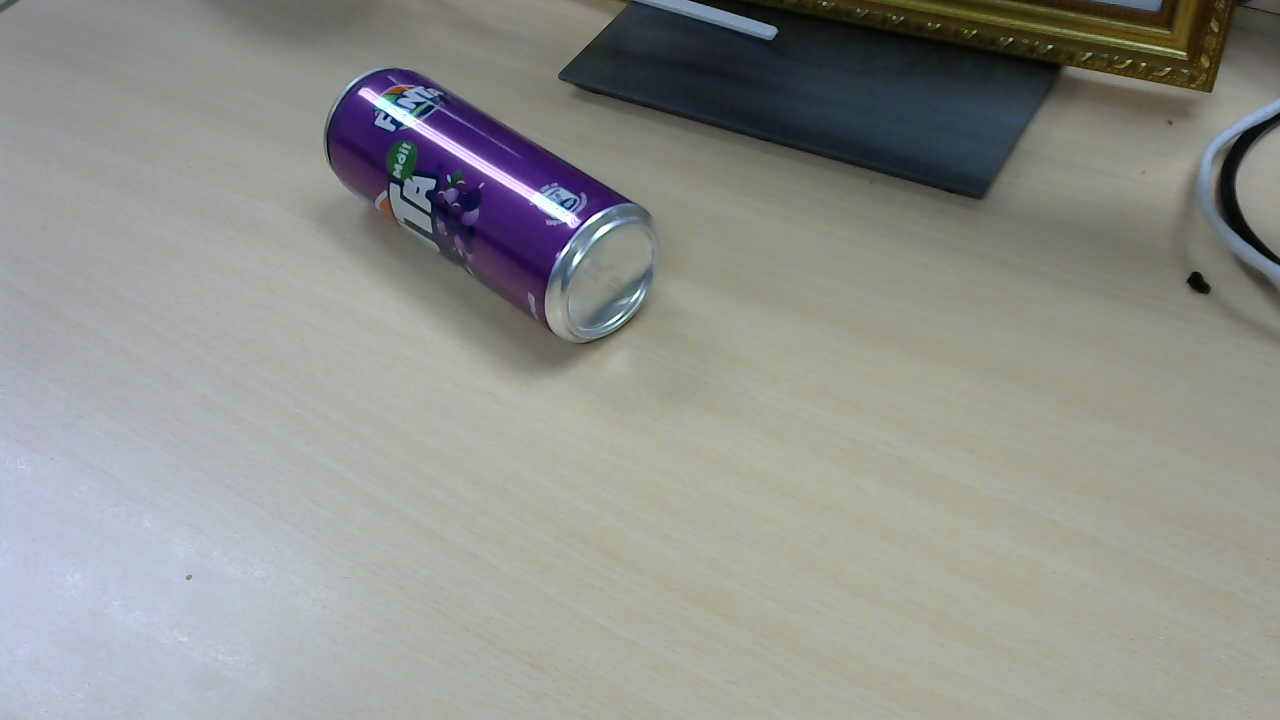Fanta: (327, 73, 659, 350)
